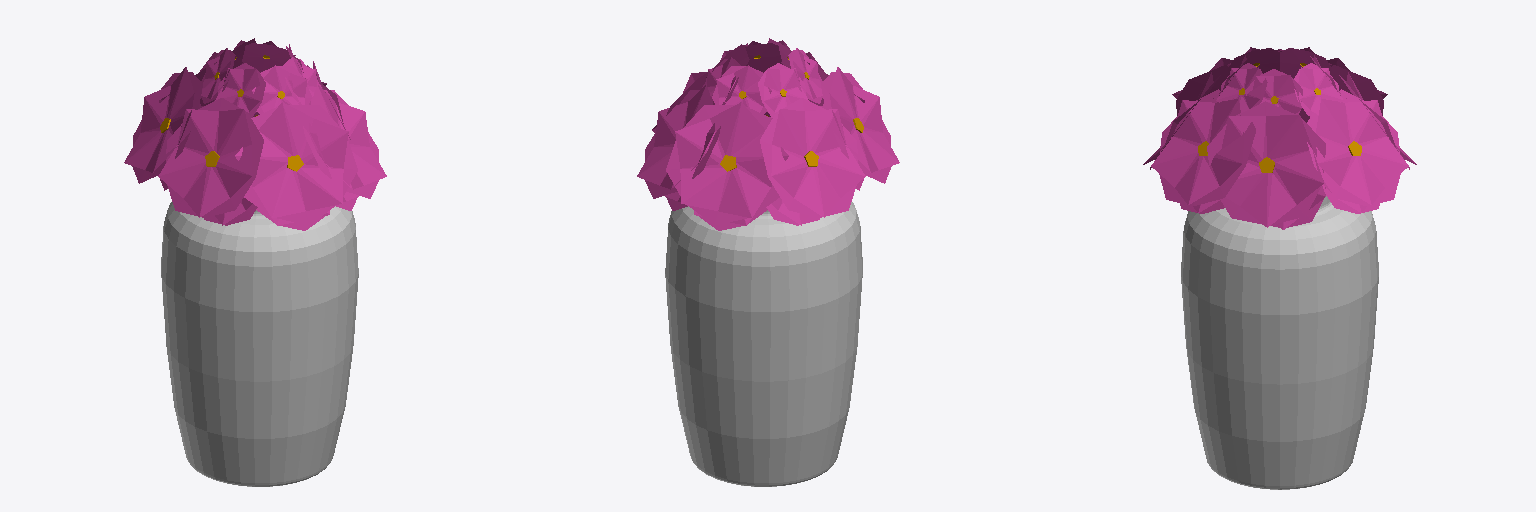
The model's file is flower_vase.obj.
The picture shows the model from 3 angles: view 1: azimuth 30°, elevation 25°; view 2: azimuth 150°, elevation 25°; view 3: azimuth 270°, elevation 25°; orthographic projection.
Parts seen in each view (by area): view 1: Cylinder, Cylinder.004_Cylinder.020, Cylinder.005_Cylinder.021, Cylinder.006_Cylinder.022, Cylinder.009_Cylinder.024, Cylinder.010_Cylinder.025, Cylinder.011_Cylinder.026, Cylinder.007_Cylinder.012; view 2: Cylinder, Cylinder.004_Cylinder.020, Cylinder.005_Cylinder.021, Cylinder.006_Cylinder.022, Cylinder.009_Cylinder.024, Cylinder.010_Cylinder.025, Cylinder.011_Cylinder.026, Cylinder.007_Cylinder.012; view 3: Cylinder, Cylinder.006_Cylinder.022, Cylinder.008_Cylinder.023, Cylinder.011_Cylinder.026, Cylinder.004_Cylinder.020, Cylinder.009_Cylinder.024, Cylinder.012_Cylinder.027, Cylinder.005_Cylinder.021, Cylinder.002_Cylinder.018.
Boxes of the visible parts, x1=… form: Cylinder: x1=161, y1=202, x2=358, y2=486; Cylinder.004_Cylinder.020: x1=124, y1=67, x2=263, y2=217; Cylinder.005_Cylinder.021: x1=159, y1=52, x2=357, y2=224; Cylinder.006_Cylinder.022: x1=241, y1=63, x2=386, y2=198; Cylinder.009_Cylinder.024: x1=201, y1=48, x2=265, y2=117; Cylinder.010_Cylinder.025: x1=214, y1=38, x2=311, y2=113; Cylinder.011_Cylinder.026: x1=242, y1=41, x2=321, y2=104; Cylinder.007_Cylinder.012: x1=158, y1=104, x2=257, y2=225; Cylinder: x1=665, y1=202, x2=862, y2=486; Cylinder.004_Cylinder.020: x1=760, y1=67, x2=899, y2=217; Cylinder.005_Cylinder.021: x1=666, y1=52, x2=864, y2=224; Cylinder.006_Cylinder.022: x1=637, y1=63, x2=782, y2=198; Cylinder.009_Cylinder.024: x1=758, y1=48, x2=822, y2=117; Cylinder.010_Cylinder.025: x1=712, y1=38, x2=809, y2=113; Cylinder.011_Cylinder.026: x1=702, y1=41, x2=781, y2=104; Cylinder.007_Cylinder.012: x1=766, y1=104, x2=865, y2=225; Cylinder: x1=1181, y1=196, x2=1378, y2=489; Cylinder.006_Cylinder.022: x1=1151, y1=89, x2=1408, y2=205; Cylinder.008_Cylinder.023: x1=1207, y1=101, x2=1325, y2=227; Cylinder.011_Cylinder.026: x1=1216, y1=63, x2=1343, y2=116; Cylinder.004_Cylinder.020: x1=1172, y1=58, x2=1387, y2=115; Cylinder.009_Cylinder.024: x1=1227, y1=47, x2=1332, y2=77; Cylinder.012_Cylinder.027: x1=1245, y1=69, x2=1302, y2=114; Cylinder.005_Cylinder.021: x1=1143, y1=72, x2=1416, y2=169; Cylinder.002_Cylinder.018: x1=1180, y1=182, x2=1379, y2=213.
Size of the model in its own units: 5.89 by 11.38 by 7.03.